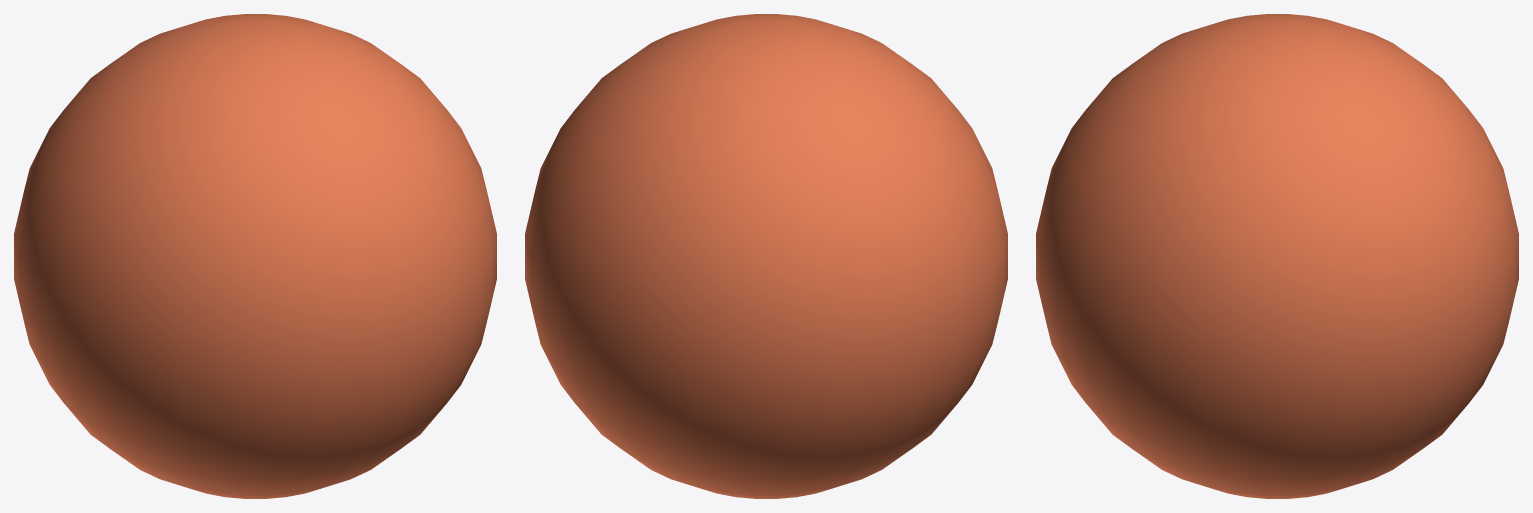
File: Ball.fbx
3 views of the same model, side by side, from view 1: azimuth 30°, elevation 25°; view 2: azimuth 150°, elevation 25°; view 3: azimuth 270°, elevation 25° (orthographic).
Parts seen in each view (by area): view 1: Ball; view 2: Ball; view 3: Ball.
Part boxes in pixels (x1,y1,x2,y2): Ball: (14, 14, 496, 498); Ball: (525, 14, 1007, 498); Ball: (1036, 14, 1518, 498).
Size of the model in its own units: 98.91 by 100 by 99.45.
